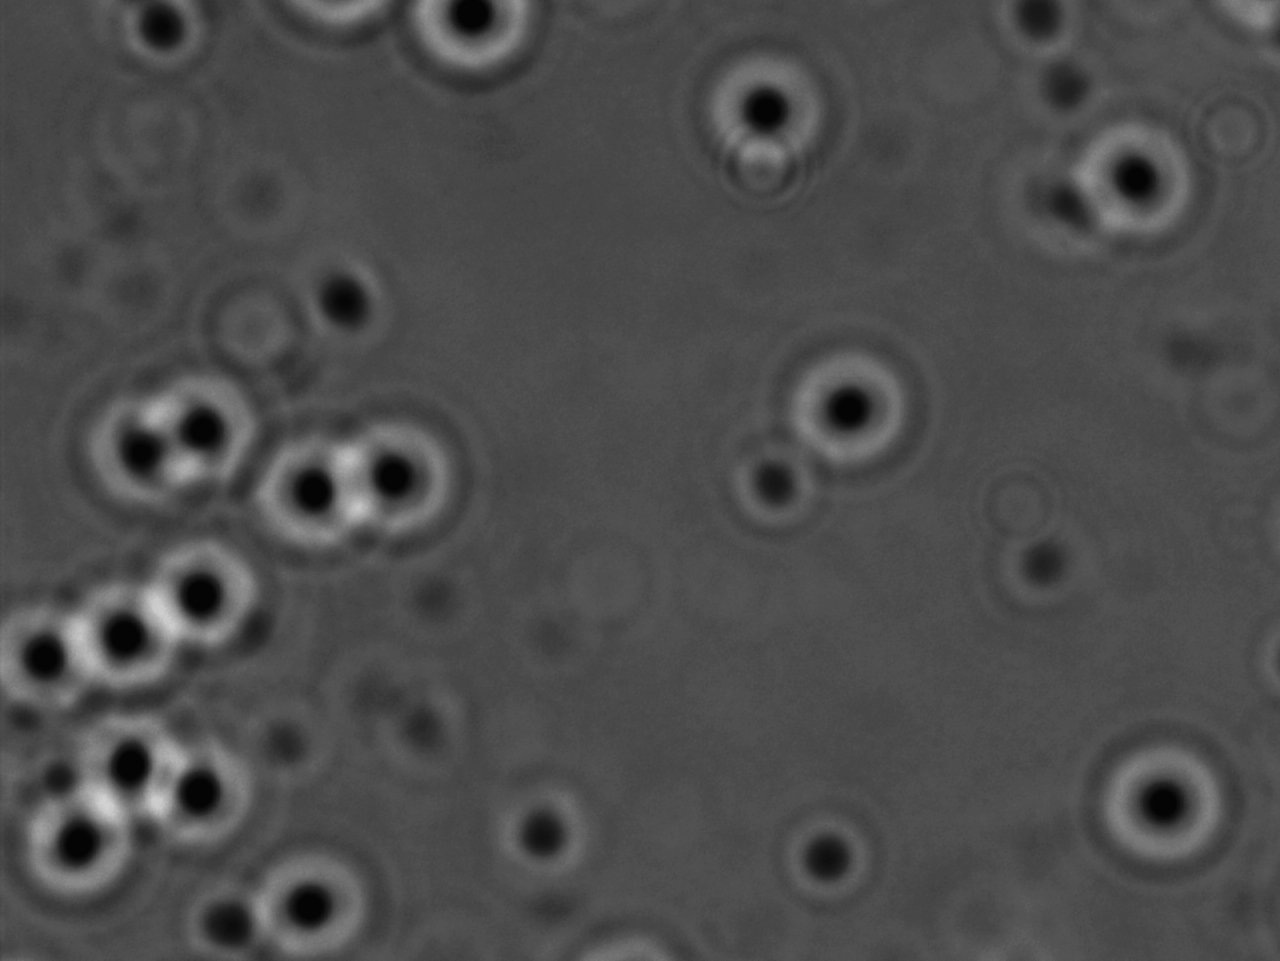depth:-32: (773, 321, 942, 489), (1073, 718, 1237, 879), (63, 367, 227, 508), (327, 397, 472, 550), (1068, 107, 1204, 271), (690, 44, 841, 189), (142, 344, 279, 491), (6, 785, 154, 918), (240, 418, 380, 549), (246, 845, 402, 961), (124, 728, 264, 855), (150, 531, 281, 663), (67, 707, 203, 825), (62, 576, 186, 701)
